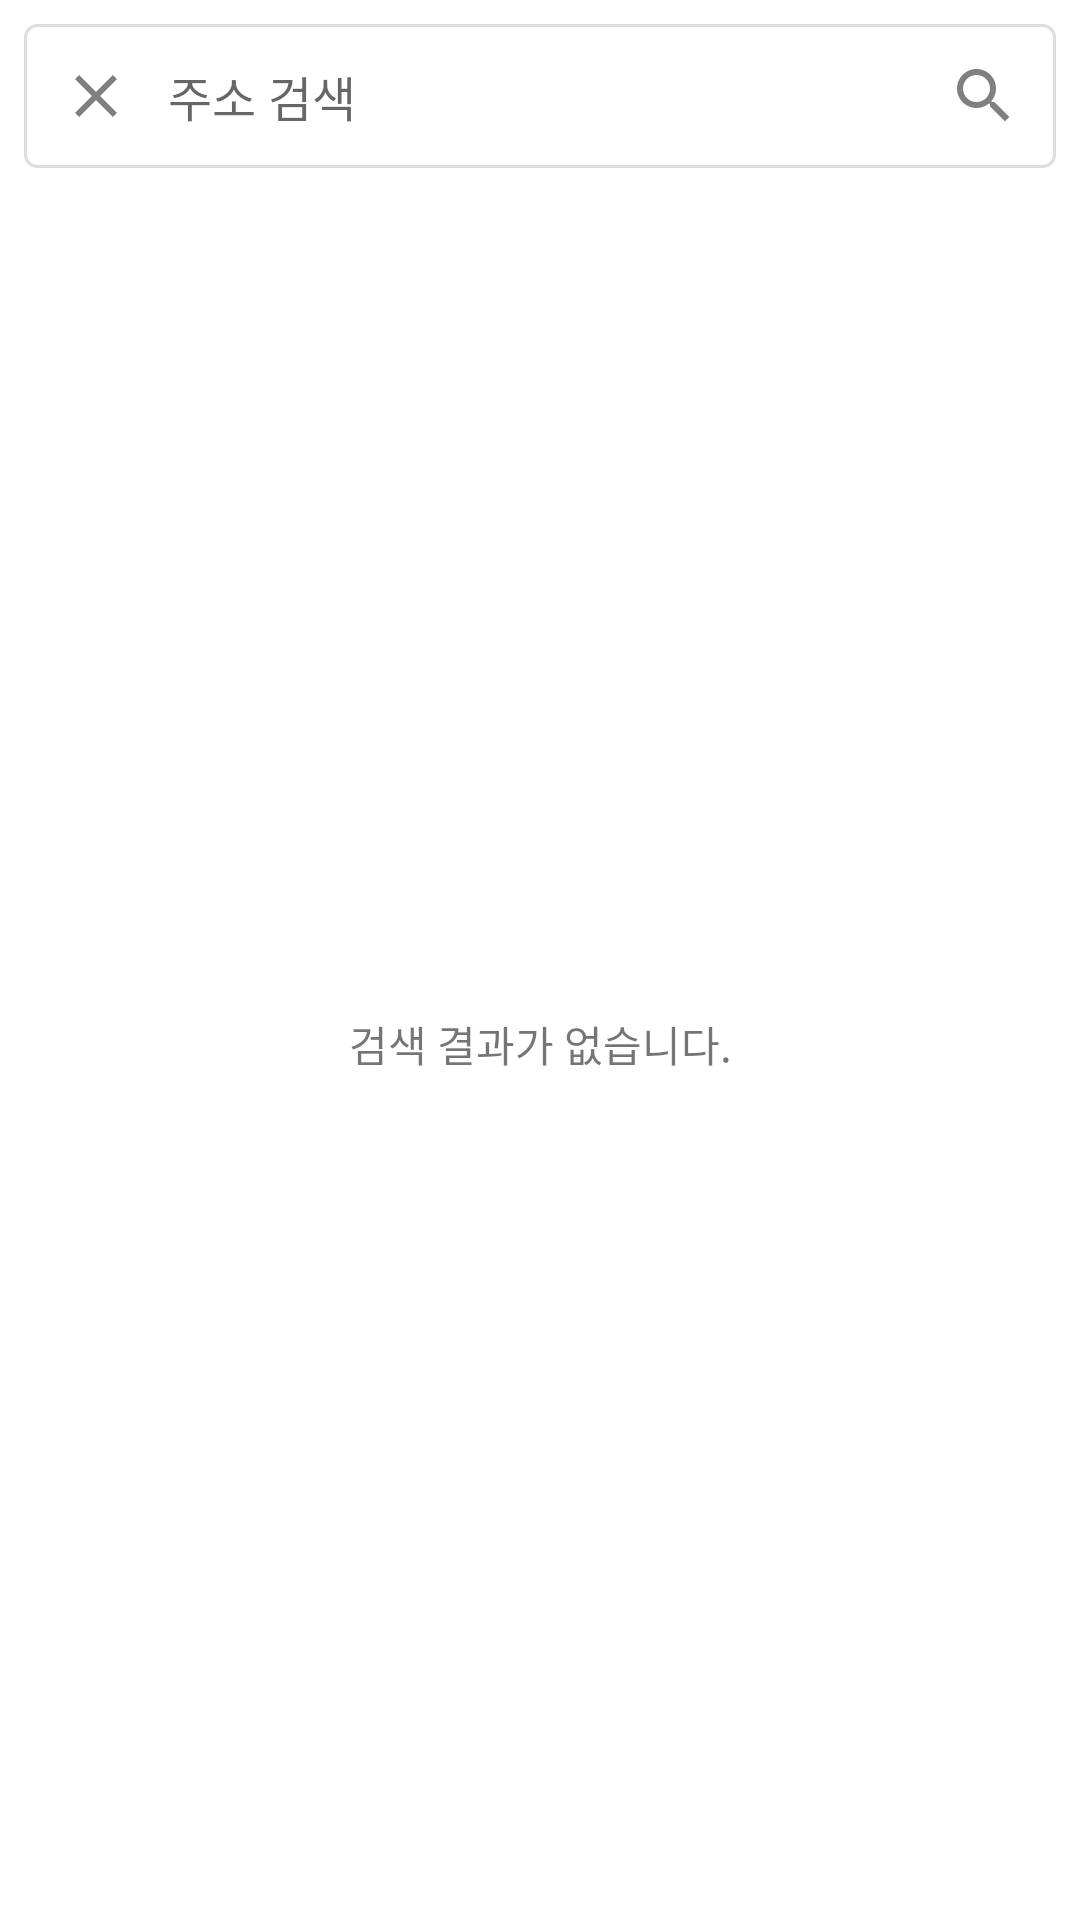

Named icons in this screenshot (1080*1920) and their bounding boxes, [x1,y1,x2,y2]:
close: [75,75,117,117]
search: [957,69,1009,121]
